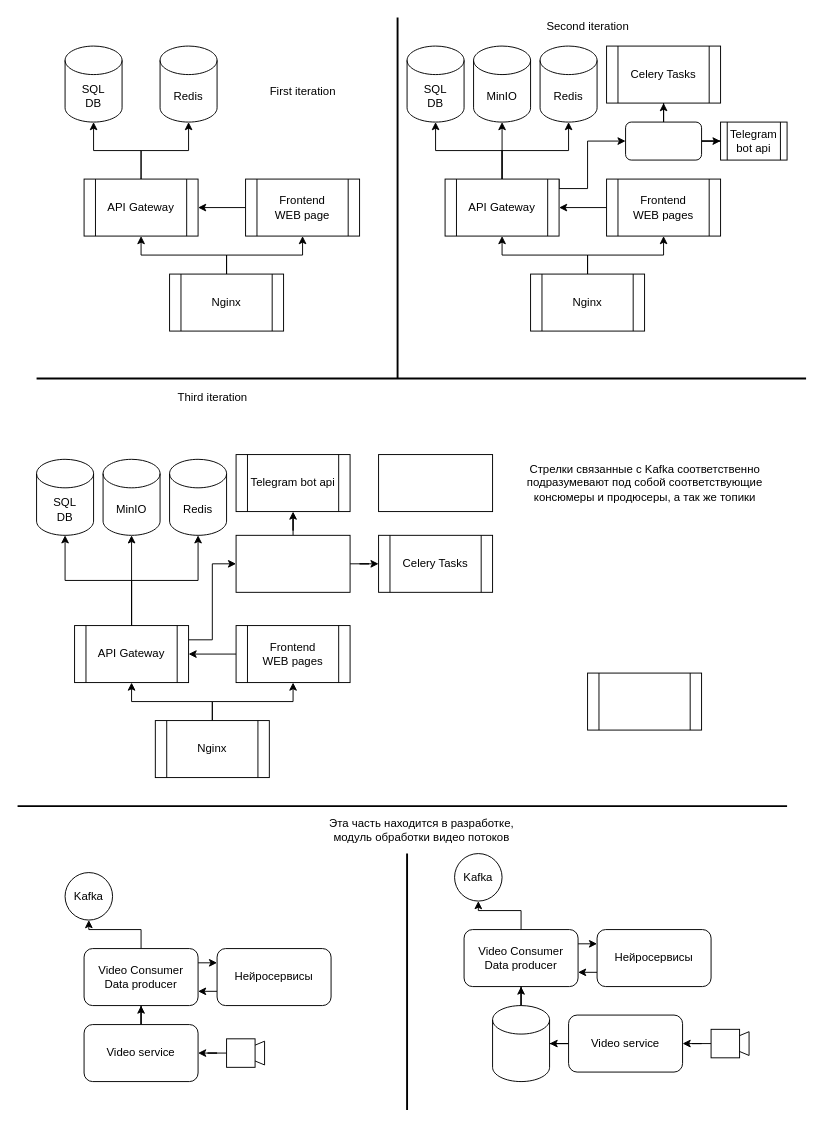
Some shapes in this 824 by 1128 pixel diagram are drawn without their labels. The shapes that lost their labels are listed below. From the top down, each one's centre as x and y in pixels, then its label:
At (663,140): "Redis broker".
At (435,483): "SMS шлюз (если найдется use case)".
At (292,563): "Kafka as broker".
At (644,701): "Wagtail Framework (если найдется применение)".
At (521,1043): "Mongo Grid FS".
